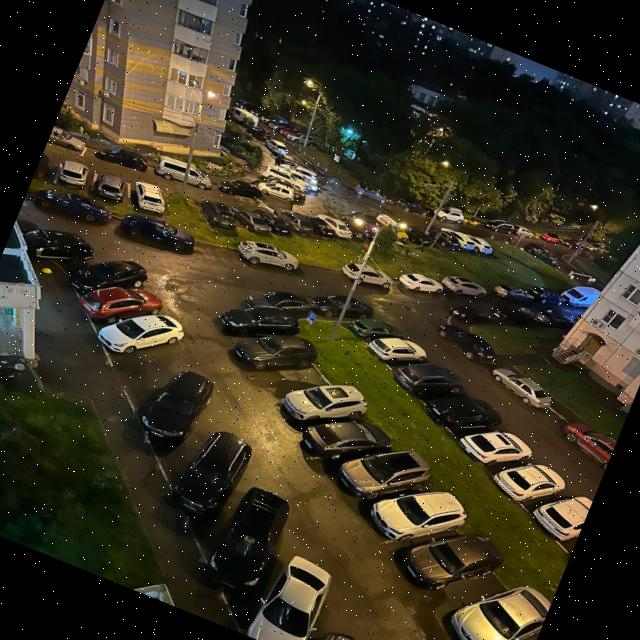car: (208, 488, 291, 592), (245, 555, 332, 640), (172, 430, 252, 516), (400, 533, 504, 588), (450, 586, 550, 640), (140, 370, 214, 439), (370, 492, 467, 540), (336, 451, 431, 498), (98, 315, 184, 353), (302, 422, 391, 457), (282, 384, 367, 419), (32, 189, 113, 223), (233, 335, 318, 367), (120, 213, 195, 249), (79, 287, 163, 319), (66, 260, 147, 292), (492, 464, 564, 500), (562, 422, 616, 469), (491, 368, 553, 407), (459, 431, 532, 464), (426, 395, 501, 427), (437, 323, 496, 363), (23, 228, 95, 260), (221, 306, 299, 334), (392, 363, 464, 393), (245, 291, 312, 319), (235, 240, 299, 269), (155, 155, 211, 188), (309, 295, 375, 317), (367, 338, 427, 362), (340, 215, 387, 244), (351, 211, 394, 240), (348, 319, 405, 340), (340, 263, 392, 286), (200, 198, 237, 229), (230, 205, 269, 234), (97, 148, 147, 169), (274, 207, 313, 233), (251, 209, 291, 233), (442, 276, 487, 297), (376, 213, 409, 240), (48, 127, 85, 151), (315, 214, 352, 238), (440, 226, 475, 251), (135, 182, 165, 211), (524, 242, 560, 266), (425, 224, 459, 249), (399, 273, 443, 292), (217, 179, 263, 197), (97, 172, 127, 199), (492, 306, 535, 324), (399, 222, 431, 246), (302, 214, 335, 237), (353, 182, 387, 204), (59, 160, 87, 186), (450, 306, 493, 322), (258, 183, 294, 201), (494, 285, 534, 301), (395, 198, 429, 215), (484, 219, 513, 234), (433, 208, 463, 222)
